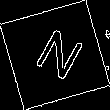N_SW: (25, 23, 85, 87)
